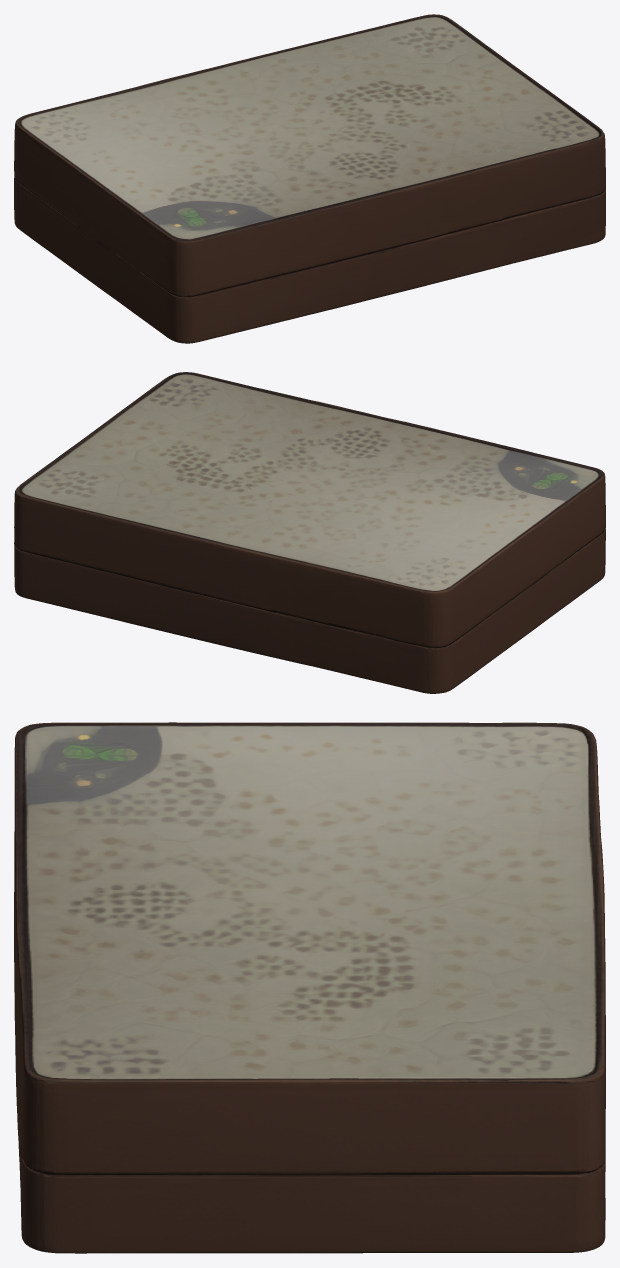
The model's file is 0225_good_sleep_double_2_star_137.glb.
3 renders of one model, top to bottom at view 1: azimuth 30°, elevation 25°; view 2: azimuth 150°, elevation 25°; view 3: azimuth 270°, elevation 25°, orthographic. The views are drawn at different scales.
Parts seen in each view (by area): view 1: world; view 2: world; view 3: world.
Part boxes in pixels (x1,y1,x2,y2): world: (14, 14, 605, 343); world: (14, 372, 605, 693); world: (14, 722, 605, 1253).
Bounding box in the file's own units: 0.9982 × 0.2241 × 0.693.
1 material, 1 textured.
